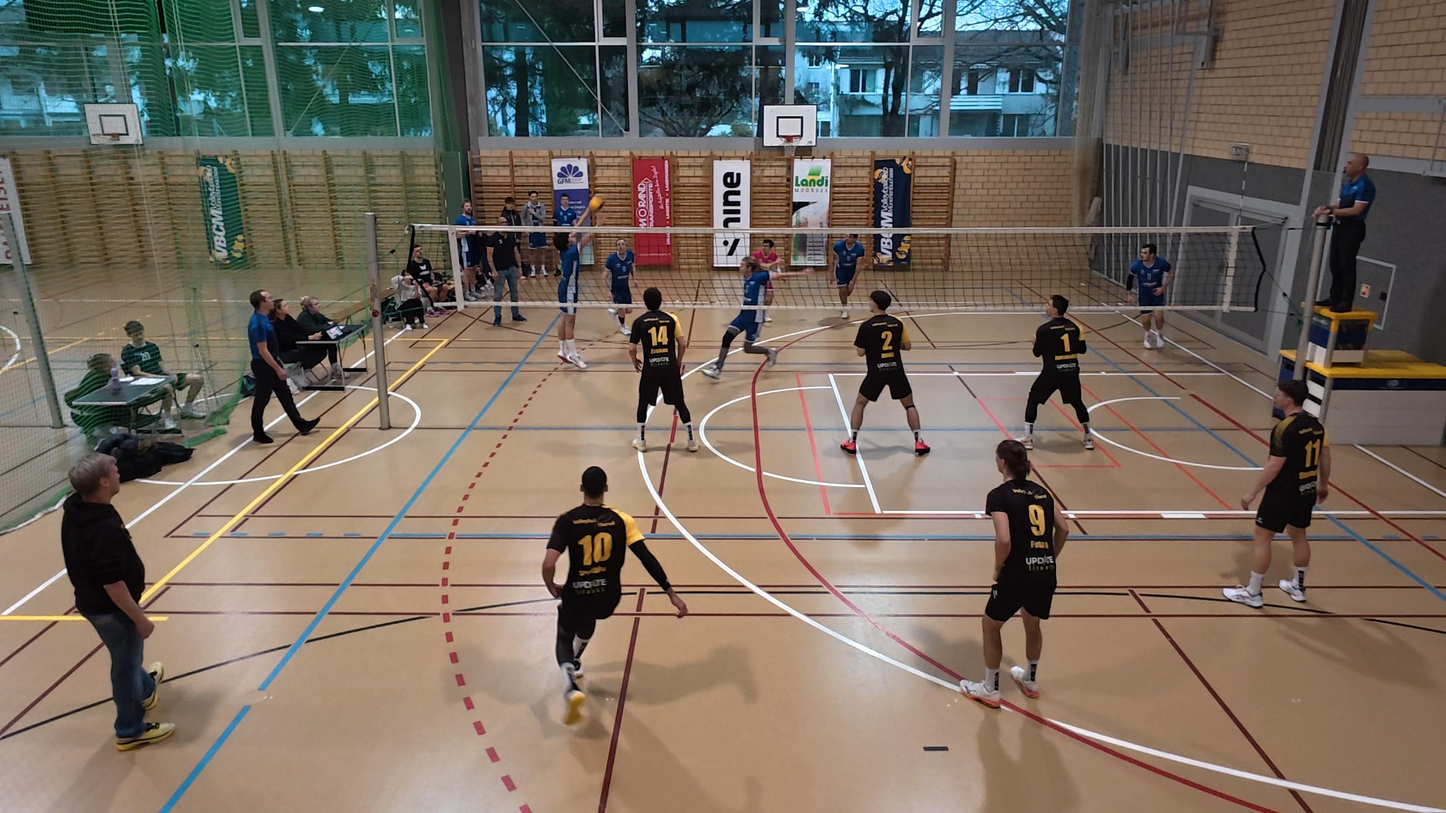Player: (542, 466, 686, 724), (959, 440, 1067, 706), (1223, 384, 1330, 608), (840, 289, 930, 455), (627, 288, 699, 452), (1021, 294, 1095, 449), (701, 257, 773, 378), (1127, 243, 1173, 350), (601, 237, 637, 338), (826, 229, 863, 322), (750, 237, 783, 323)
Set: (551, 198, 606, 372)
ball: (589, 194, 605, 209)
